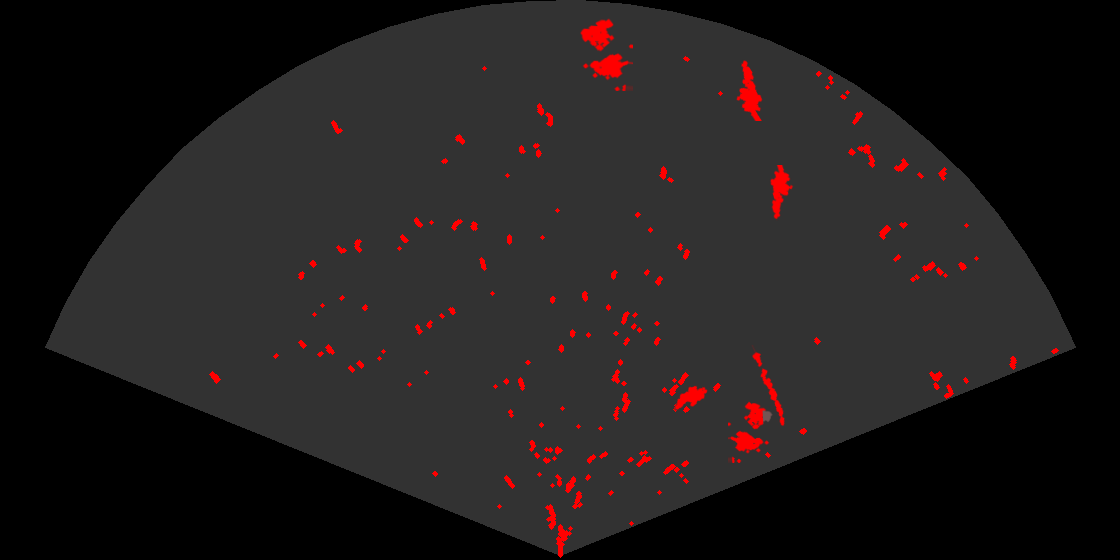AUV: (673, 384, 709, 411)
cage: (579, 17, 633, 91), (728, 400, 774, 463)
chain: (750, 345, 786, 428)
frogman: (735, 59, 764, 121), (769, 165, 795, 221)
